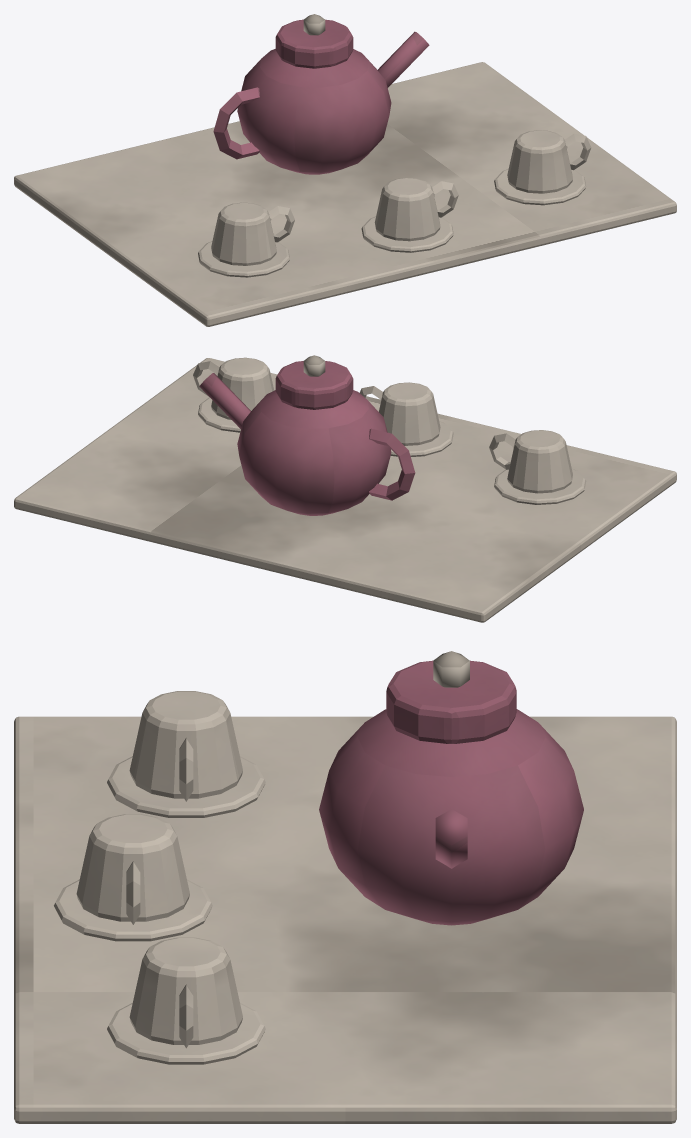
The model's file is TY14_toy_tea_set.glb.
The picture shows the model from 3 angles, top to bottom: view 1: azimuth 30°, elevation 25°; view 2: azimuth 150°, elevation 25°; view 3: azimuth 270°, elevation 25°; orthographic projection. The views are drawn at different scales.
Visible parts, largest first — view 1: TY14_toy_tea_set; view 2: TY14_toy_tea_set; view 3: TY14_toy_tea_set.
Part boxes in pixels (box(x1,y1,x2,y2)): TY14_toy_tea_set: box(14, 14, 676, 326); TY14_toy_tea_set: box(14, 355, 676, 622); TY14_toy_tea_set: box(14, 651, 676, 1123).
Size of the model in its own units: 0.3 by 0.0994 by 0.2143.
2 materials, 2 textured.
